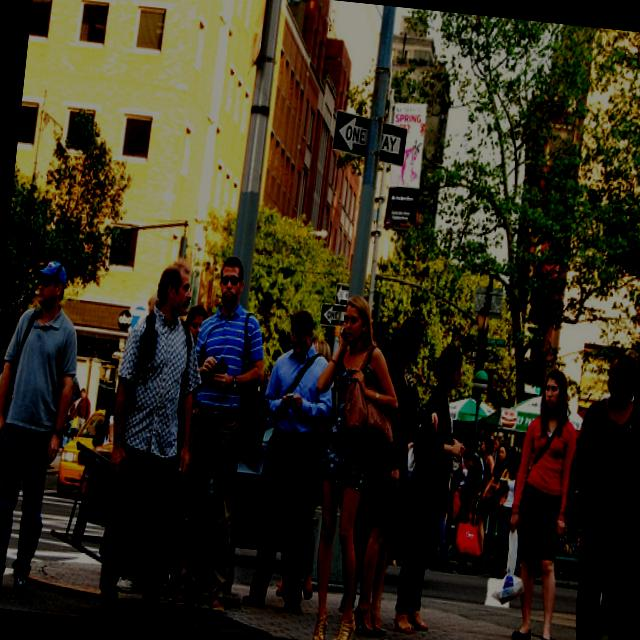Vehicle: (55, 404, 106, 502)
